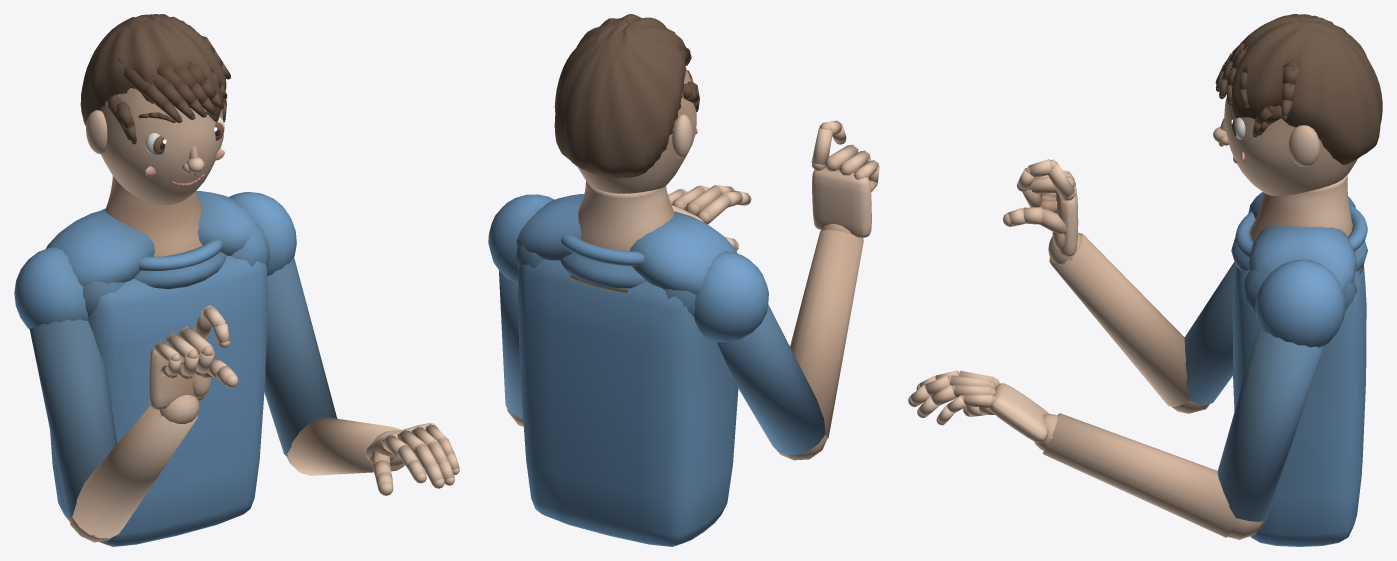
3 renders of one model, left to right at view 1: azimuth 30°, elevation 25°; view 2: azimuth 150°, elevation 25°; view 3: azimuth 270°, elevation 25°, orthographic.
Visible parts, largest first — view 1: LSC_Body; view 2: LSC_Body; view 3: LSC_Body.
Part boxes in pixels (left/top/right/bottom): LSC_Body: left=14, top=14, right=459, bottom=546; LSC_Body: left=488, top=14, right=879, bottom=546; LSC_Body: left=908, top=14, right=1382, bottom=546.
Bounding box in the file's own units: 0.4304 × 0.713 × 0.6104.
